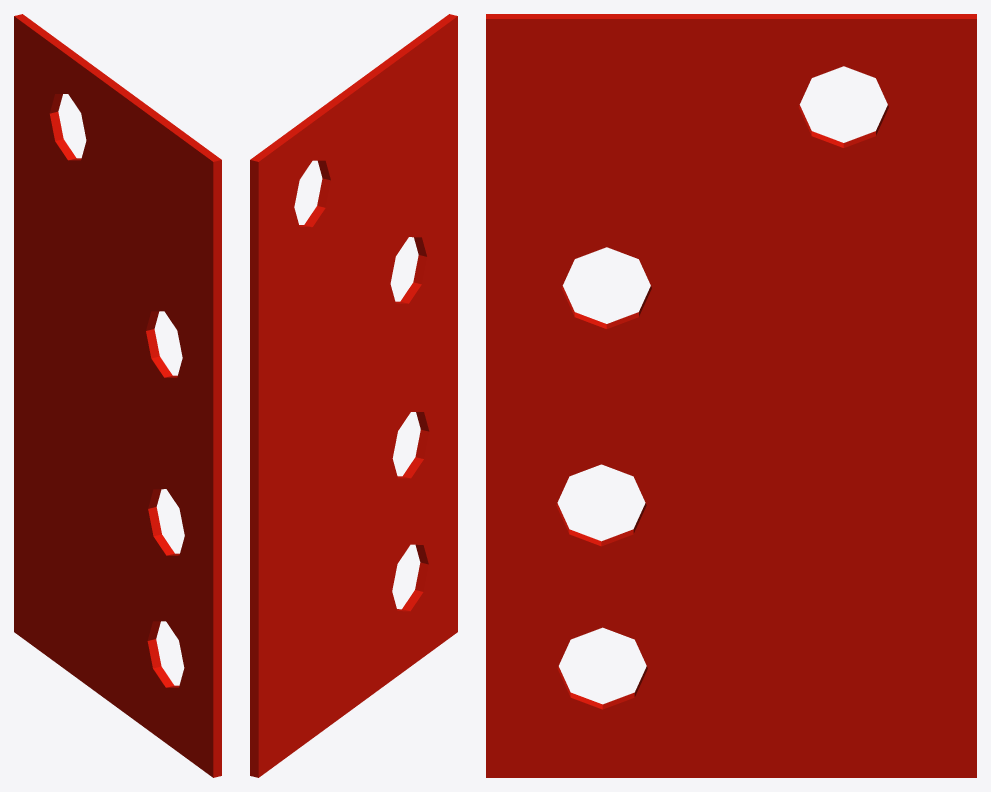
File: board07.fbx
3 views of the same model, side by side, from view 1: azimuth 30°, elevation 25°; view 2: azimuth 150°, elevation 25°; view 3: azimuth 270°, elevation 25° (orthographic). The views are drawn at different scales.
Parts seen in each view (by area): view 1: Plane.014; view 2: Plane.014; view 3: Plane.014.
Boxes of the visible parts, x1,y1,x2,y2 form: Plane.014: (14,14,221,777); Plane.014: (250,14,457,777); Plane.014: (486,14,976,777).
Bounding box in the file's own units: 9 × 617 × 362.
